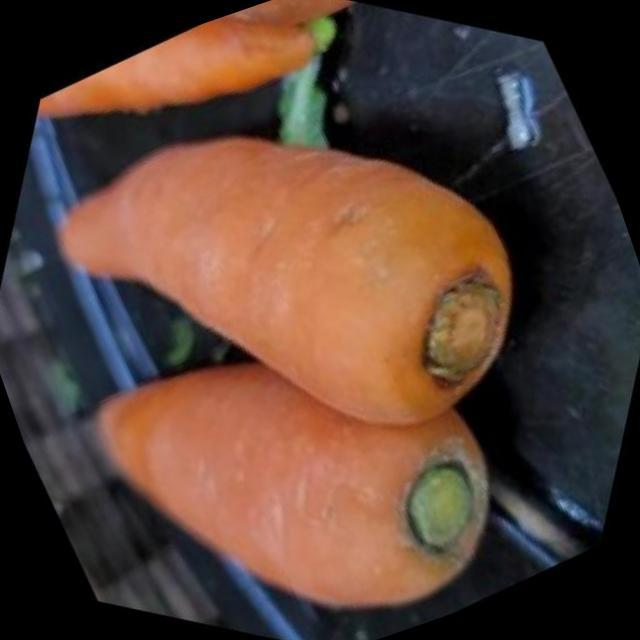carrot: (0, 0, 640, 640), (0, 35, 640, 640)
